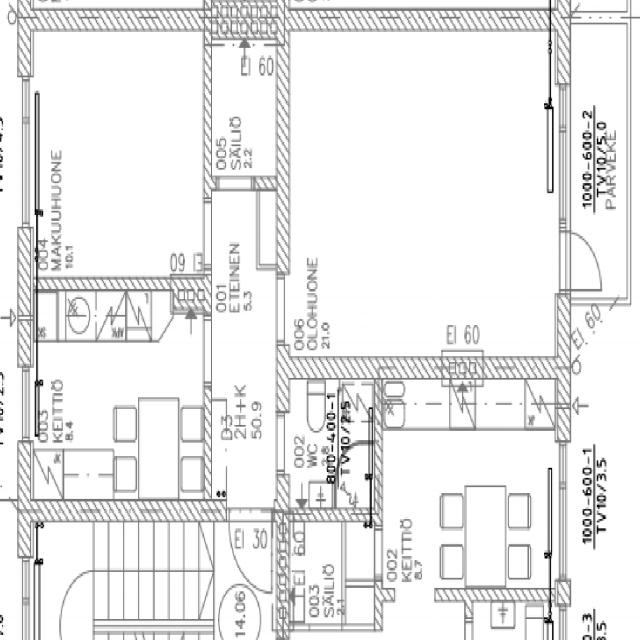door: (229, 500, 272, 593), (556, 233, 604, 290)
